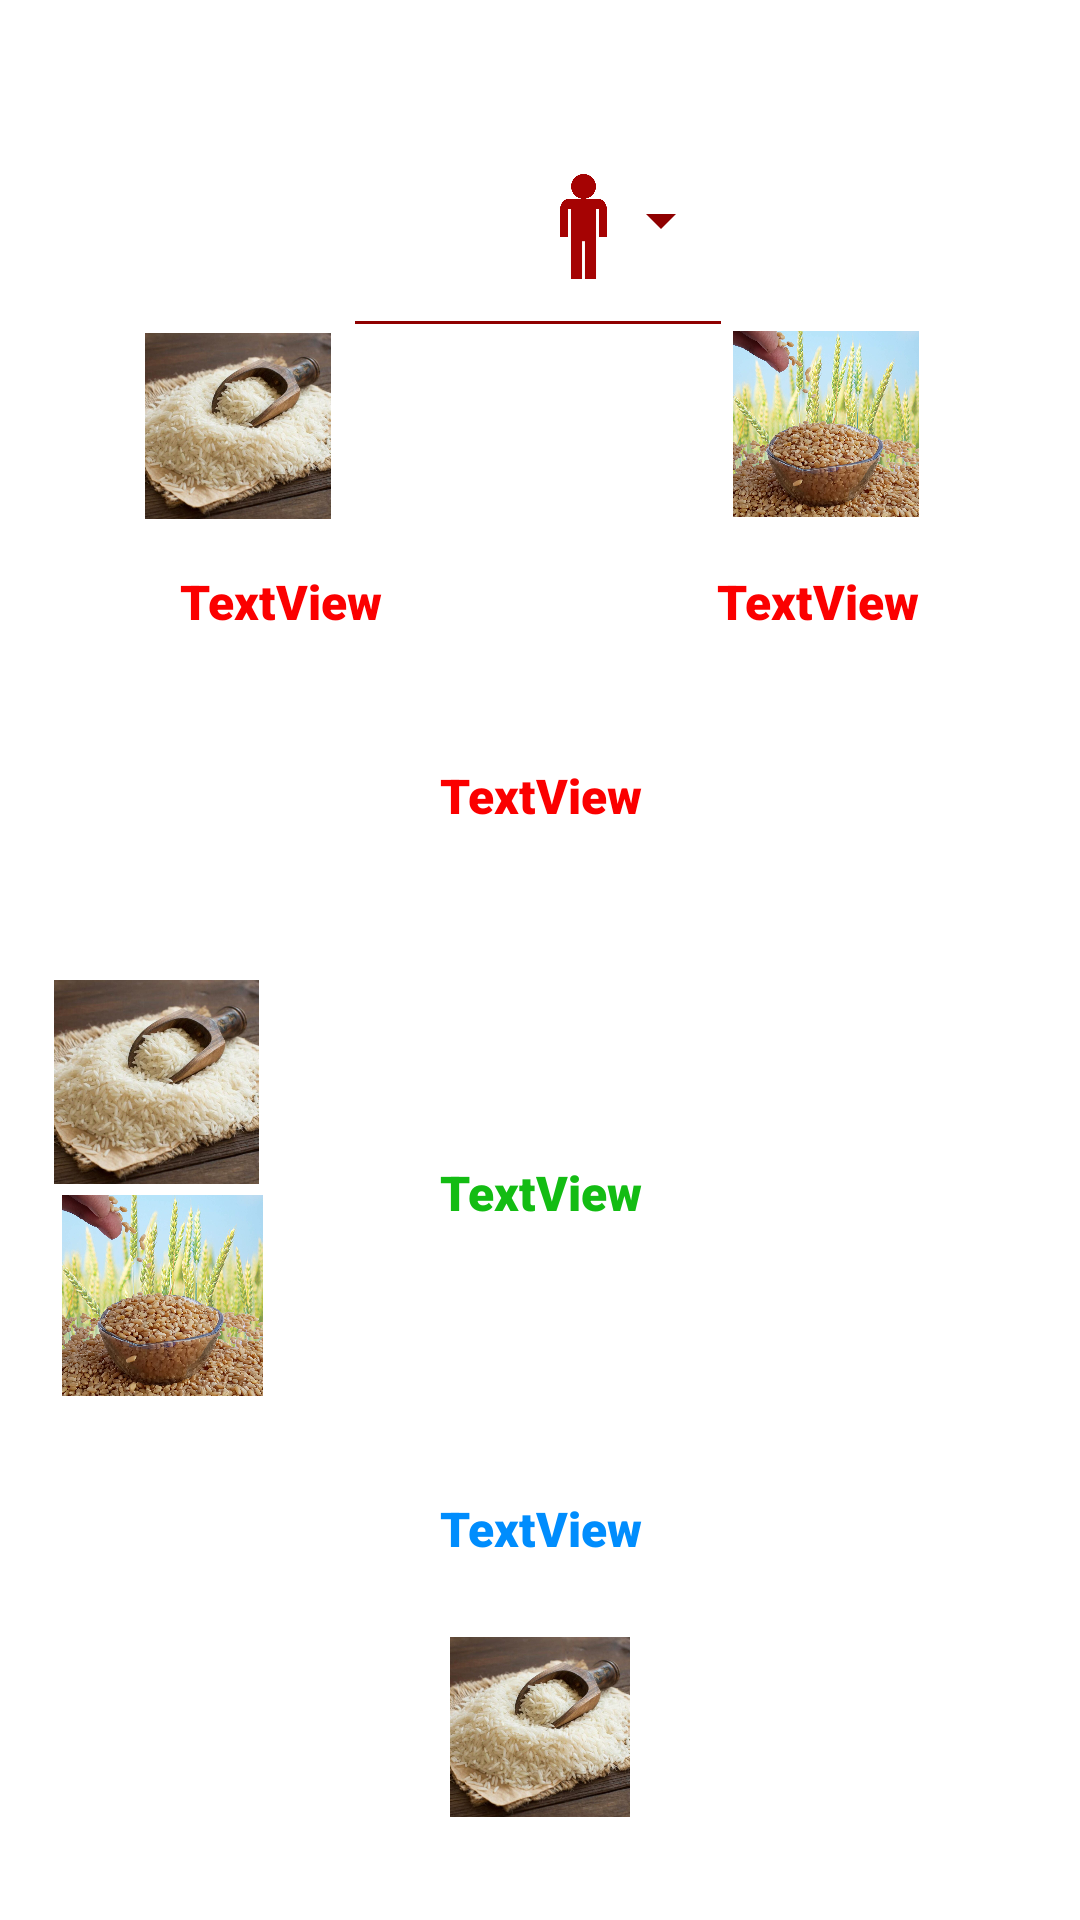

Icon click points for this 1080 x 1920 phone screenshot, format (x=x, y=y):
man: (x=583, y=226)
rice: (x=238, y=426), (x=156, y=1082), (x=540, y=1727)
wheat: (x=826, y=424), (x=162, y=1295)
